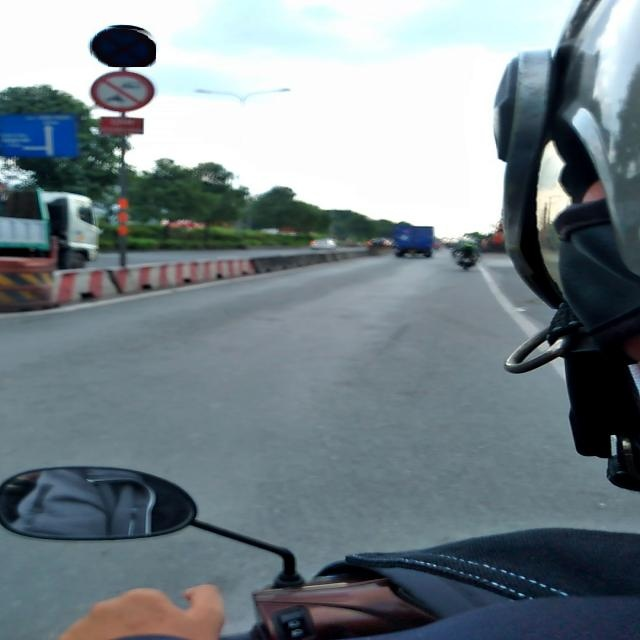bien_chi_dan: (90, 25, 156, 67)
